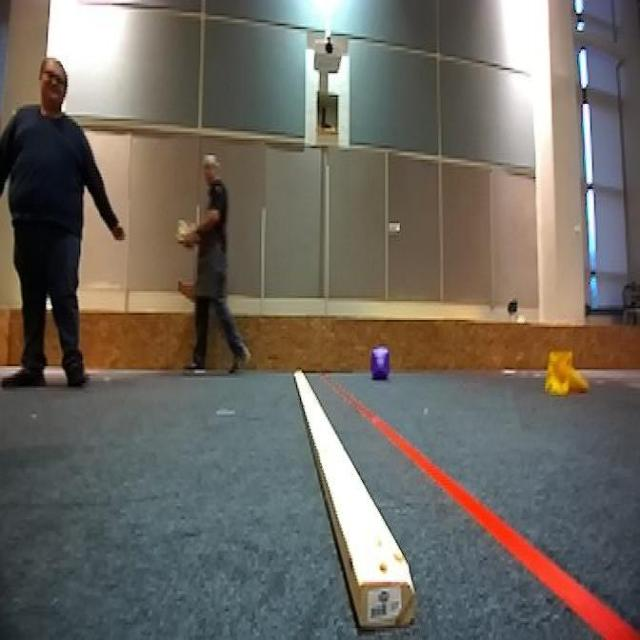frc_cone: (546, 351, 588, 398)
frc_cube: (368, 349, 392, 385)
